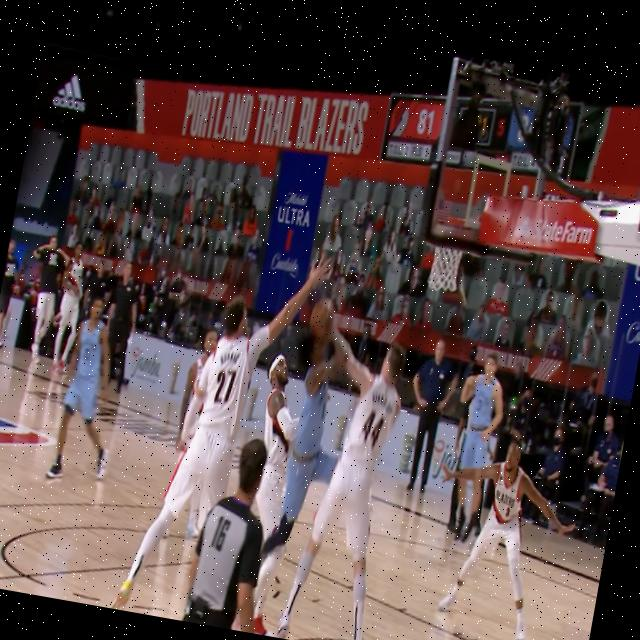no foul: (131, 198, 288, 614), (285, 305, 432, 640), (248, 271, 372, 594), (184, 432, 306, 637), (225, 362, 313, 586)
